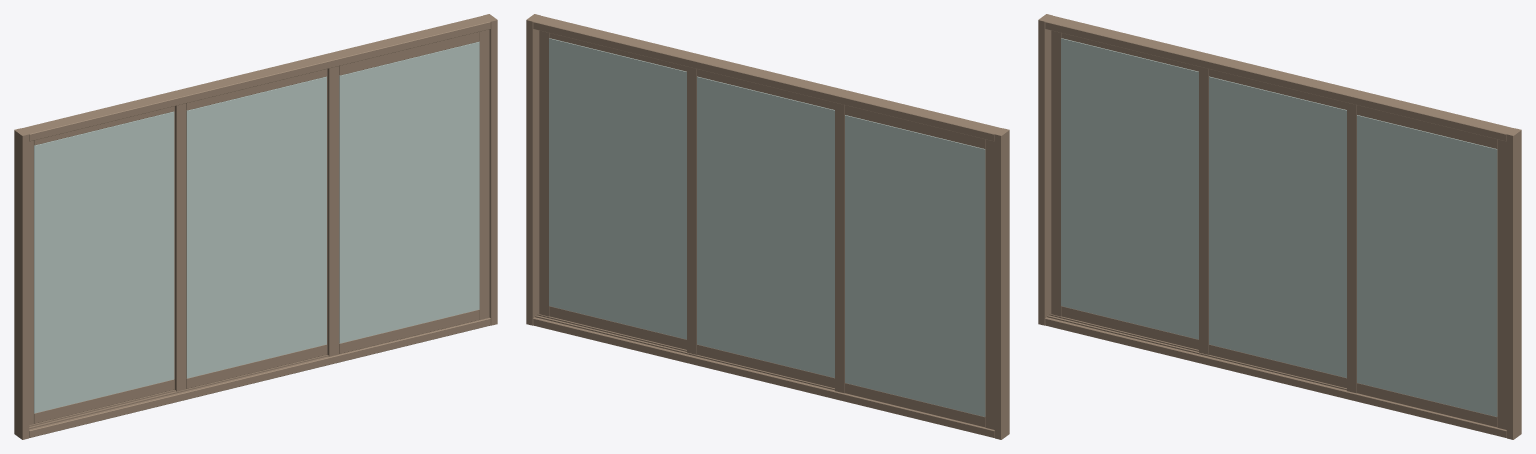
File: co-S110P-3-quartz-1019.glb
3 renders of one model, left to right at view 1: azimuth 30°, elevation 25°; view 2: azimuth 150°, elevation 25°; view 3: azimuth 330°, elevation 25°, orthographic.
Parts seen in each view (by area): view 1: verre, structure; view 2: verre, structure; view 3: verre, structure.
Boxes of the visible parts, bbox=[...] form: verre: bbox=[34, 41, 479, 413]; structure: bbox=[14, 14, 497, 439]; verre: bbox=[549, 38, 985, 416]; structure: bbox=[526, 14, 1009, 439]; verre: bbox=[1061, 38, 1497, 416]; structure: bbox=[1038, 14, 1521, 439].
Bounding box in the file's own units: 3.6 × 2.2 × 0.11.
